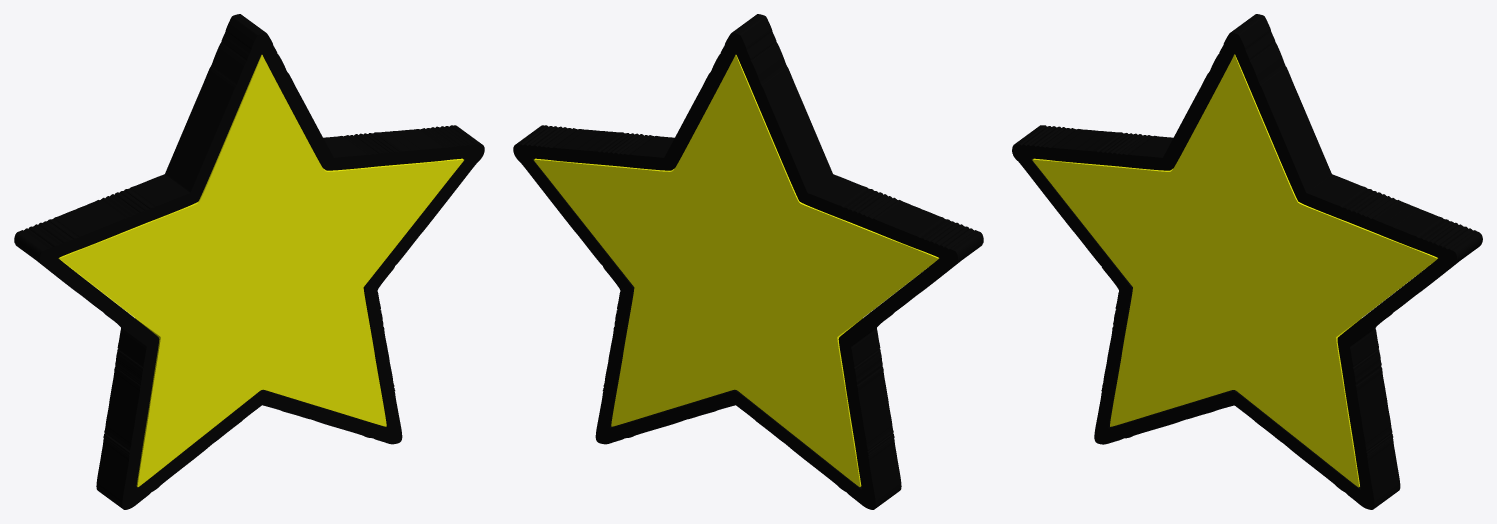
The picture shows the model from 3 angles, left to right: view 1: azimuth 30°, elevation 25°; view 2: azimuth 150°, elevation 25°; view 3: azimuth 330°, elevation 25°; orthographic projection.
Parts seen in each view (by area): view 1: node_1, node_3, node_2, node_0; view 2: node_1, node_3, node_2, node_0; view 3: node_1, node_3, node_2, node_0.
Boxes of the visible parts, box(x1,y1,x2,y2) form: node_1: box(60, 55, 463, 486); node_3: box(40, 32, 484, 509); node_2: box(14, 14, 481, 508); node_0: box(58, 55, 463, 486); node_1: box(534, 55, 937, 486); node_3: box(513, 32, 957, 509); node_2: box(516, 14, 983, 508); node_0: box(534, 55, 939, 486); node_1: box(1032, 55, 1436, 487); node_3: box(1012, 33, 1457, 509); node_2: box(1015, 14, 1482, 508); node_0: box(1033, 54, 1437, 486).
Bounding box in the file's own units: 99.95 × 95.2 × 10.
